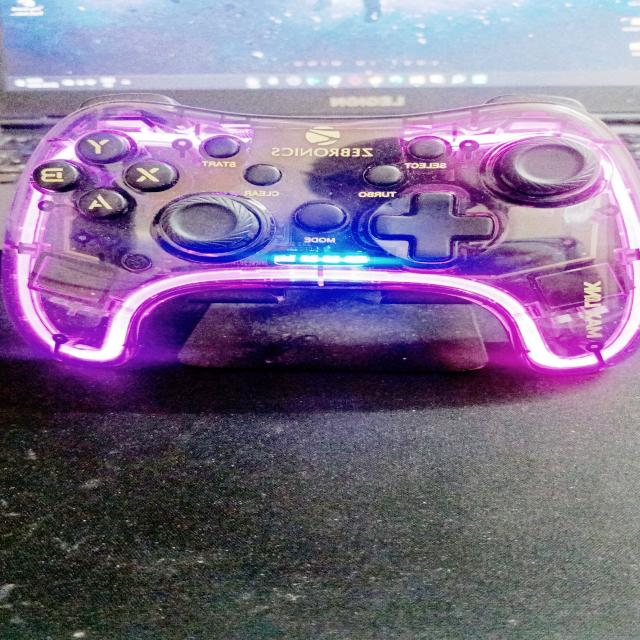gamepad: (0, 92, 640, 375)
